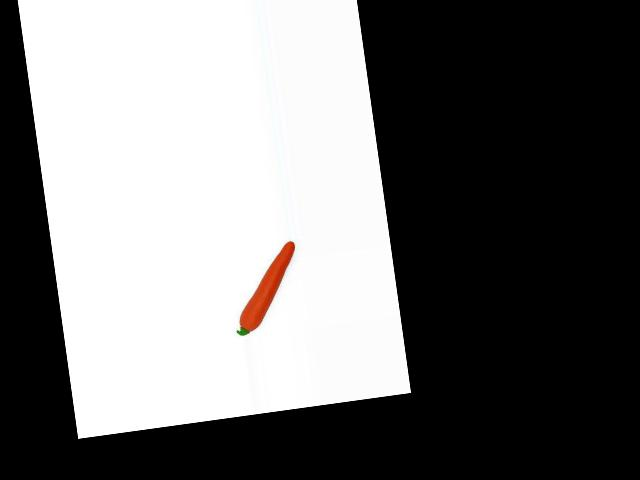carrot: (228, 239, 305, 333)
